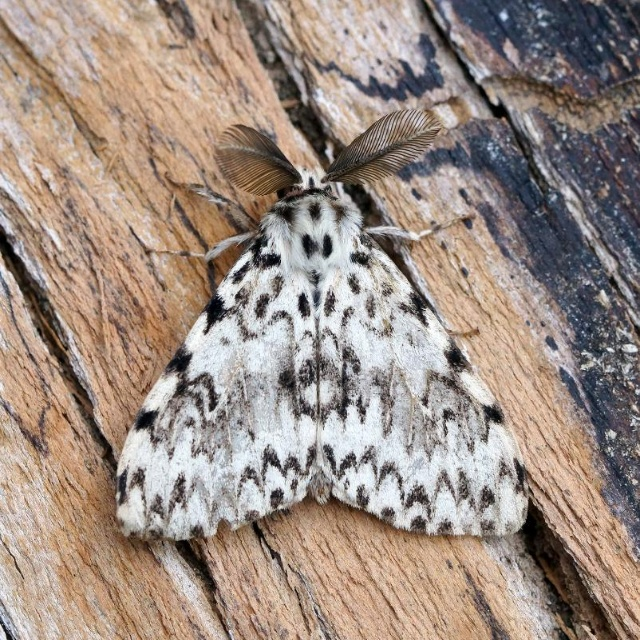Butterfly: (133, 109, 515, 521)
